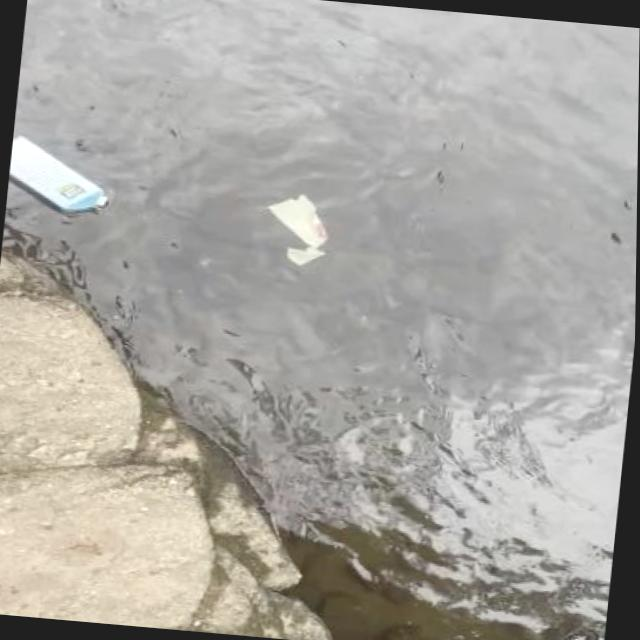Cardboard: (5, 133, 131, 224)
Plastic: (259, 187, 339, 271), (550, 620, 607, 640)
